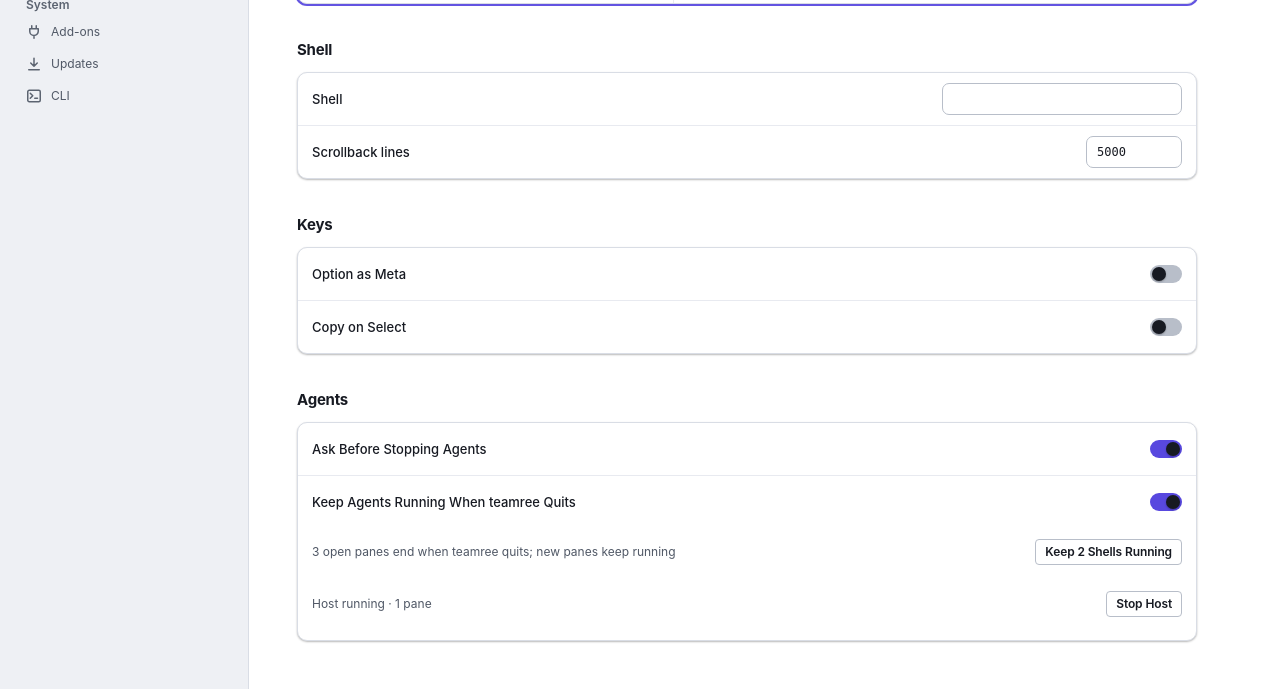
it: Keep Agents Running › says which open panes still end with the app, moves idle shells, and stops the host
(page scrolled)
Expected: the text "3 open panes end when teamree quits; new panes keep running" is shown, [312,544,676,559]
Expected: the text "Host running · 1 pane" is shown, [312,596,432,611]
What coordinates should you click on to do the following:
click the button "Keep 2 Shells Running"
I would click on:
 (1109, 552)
Its box is [1035,539,1182,565].
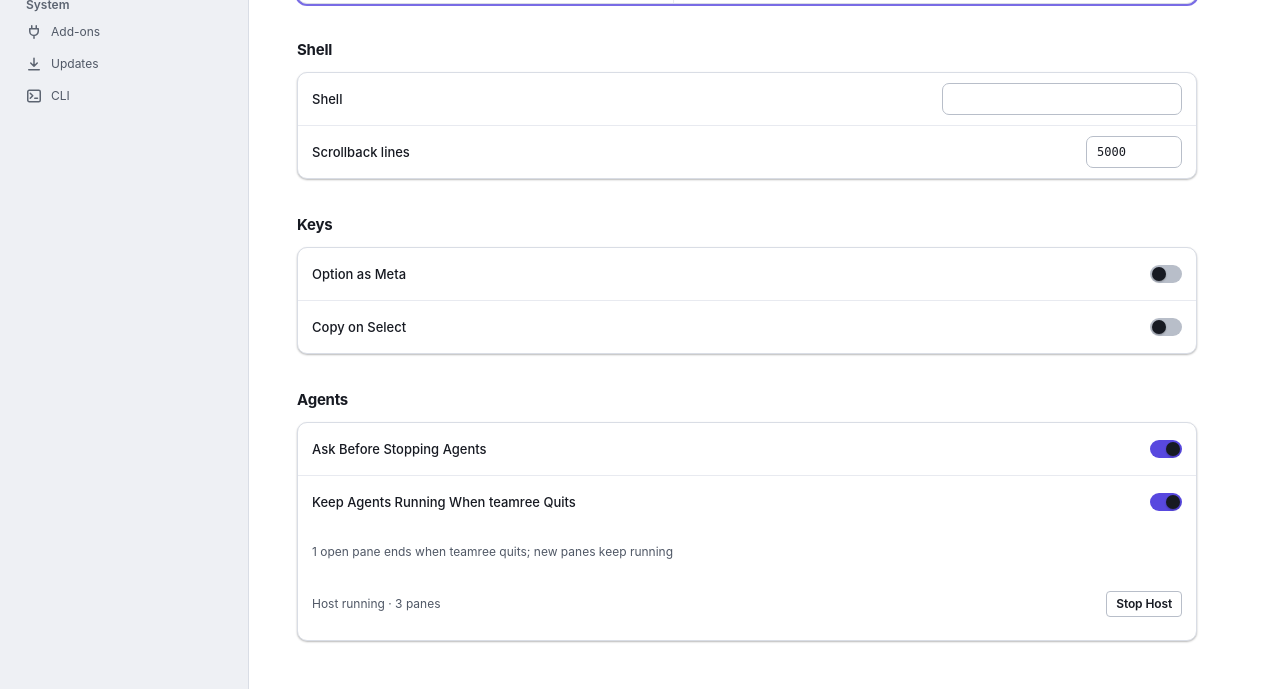
Expected: the text "Host running · 3 panes" is shown, [312,596,440,611]
Expected: the text "1 open pane ends when teamree quits; new panes keep running" is shown, [312,543,673,561]
Expected: the button "Keep 2 Shells Running" is gone
What coordinates should you click on to do the following:
click the button "Stop Host"
I would click on:
 (1144, 604)
Its box is [1106,591,1182,617].
(page scrolled)
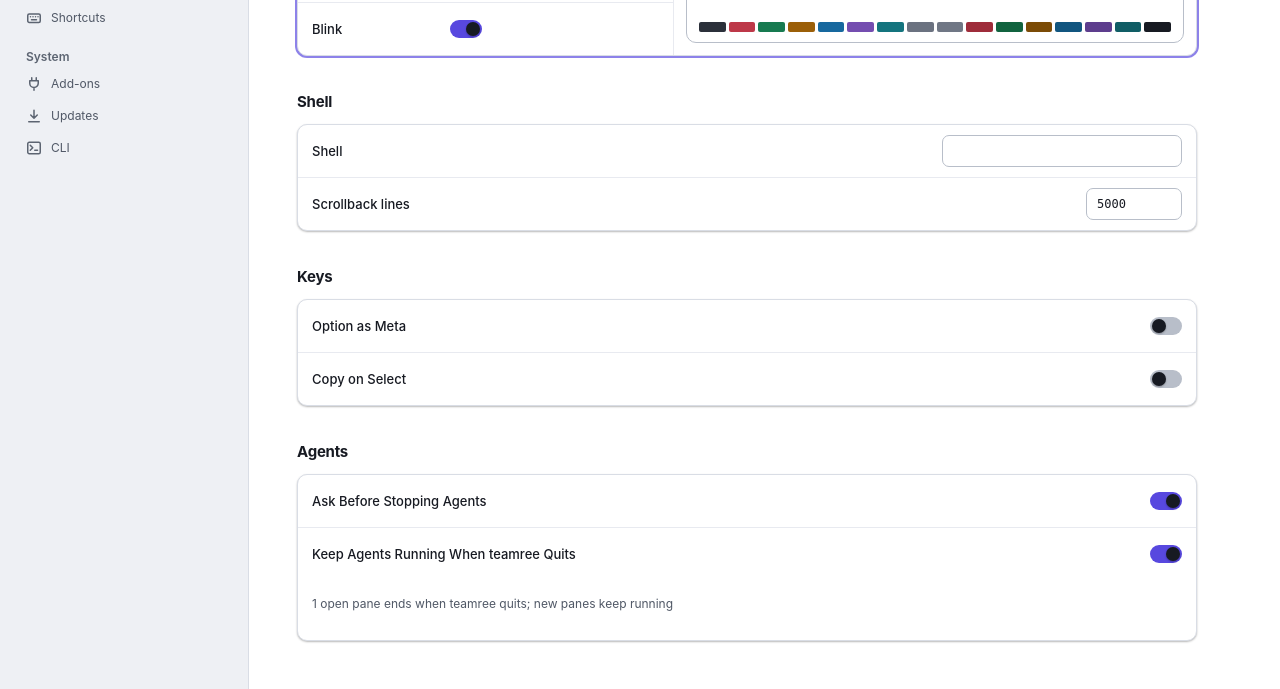
Expected: the text "Host running" is gone
